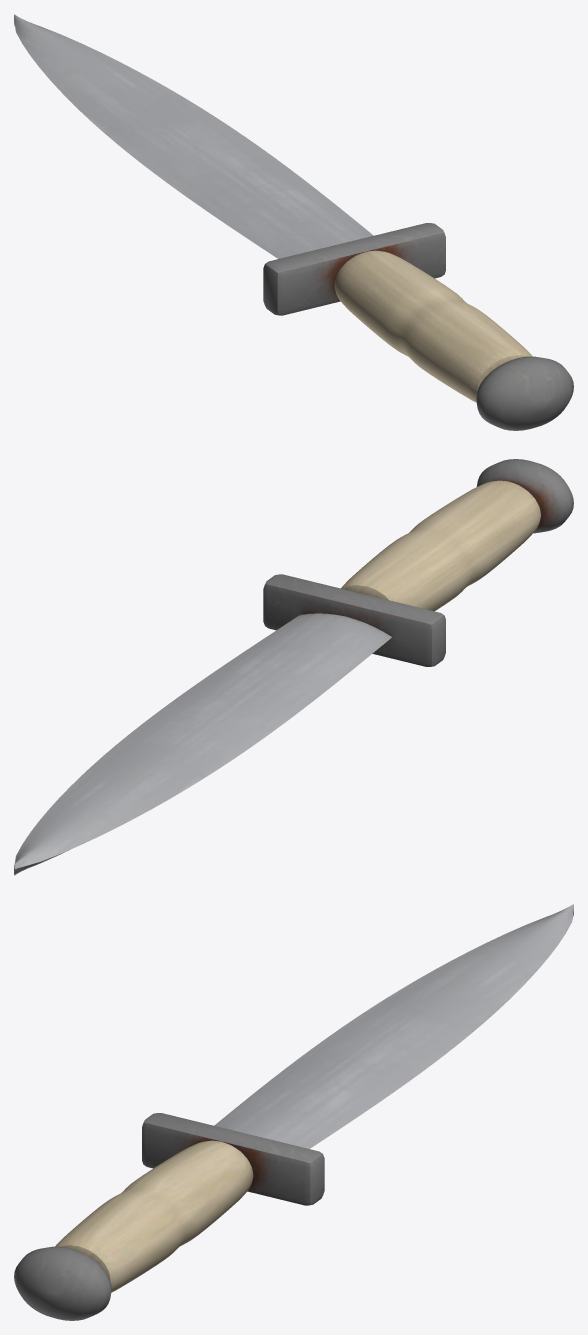
The model's file is dagger.glb.
The picture shows the model from 3 angles, top to bottom: view 1: azimuth 30°, elevation 25°; view 2: azimuth 150°, elevation 25°; view 3: azimuth 330°, elevation 25°; orthographic projection.
Parts seen in each view (by area): view 1: dagger; view 2: dagger; view 3: dagger.
Boxes of the visible parts, box(x1,y1,x2,y2) form: dagger: box(14, 14, 573, 430); dagger: box(14, 459, 573, 875); dagger: box(14, 904, 573, 1320).
Bounding box in the file's own units: 0.06 × 0.022 × 0.3179.
1 material, 1 textured.
